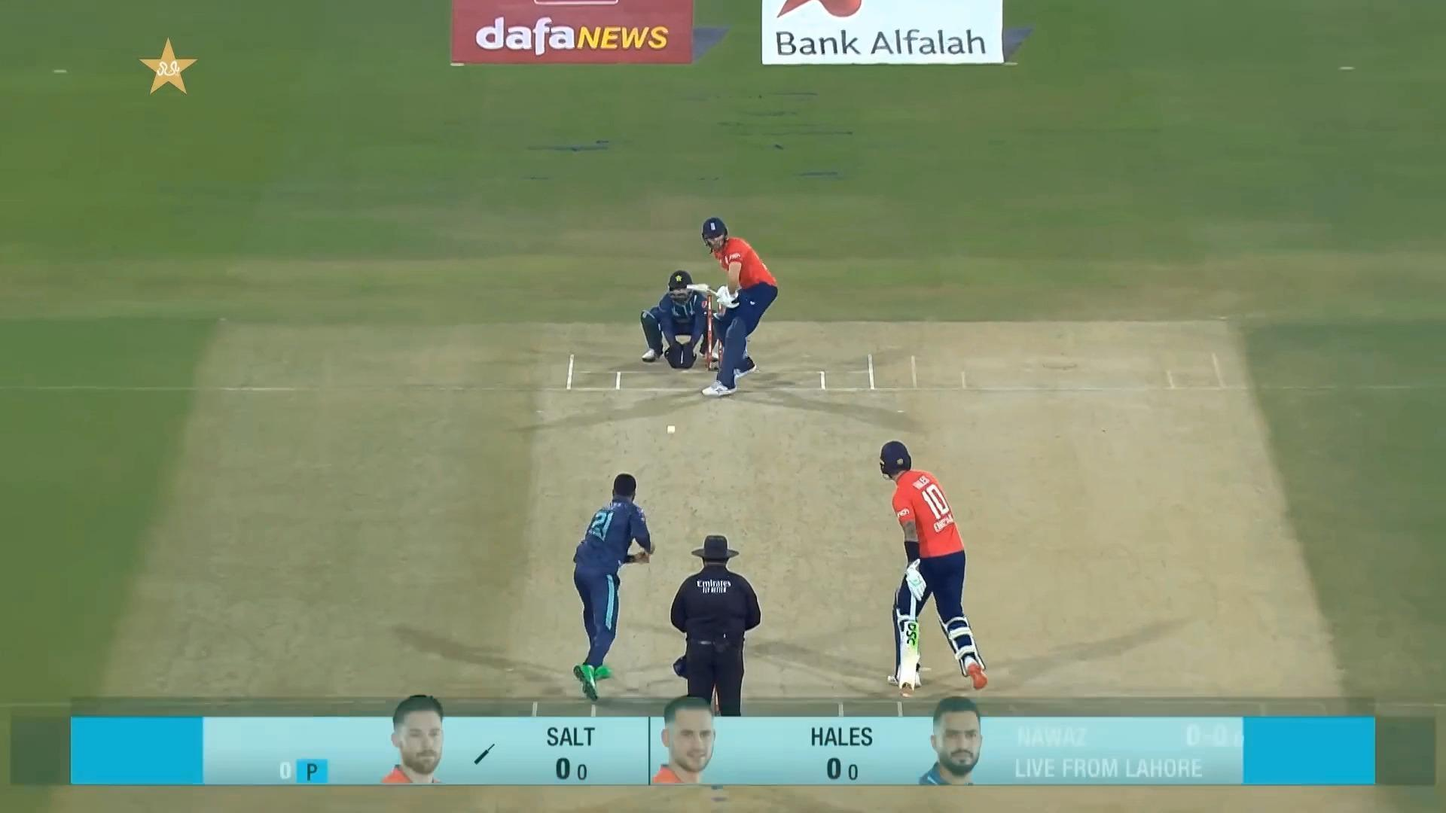BM 1: (686, 216, 779, 397)
BO: (569, 468, 659, 702)
